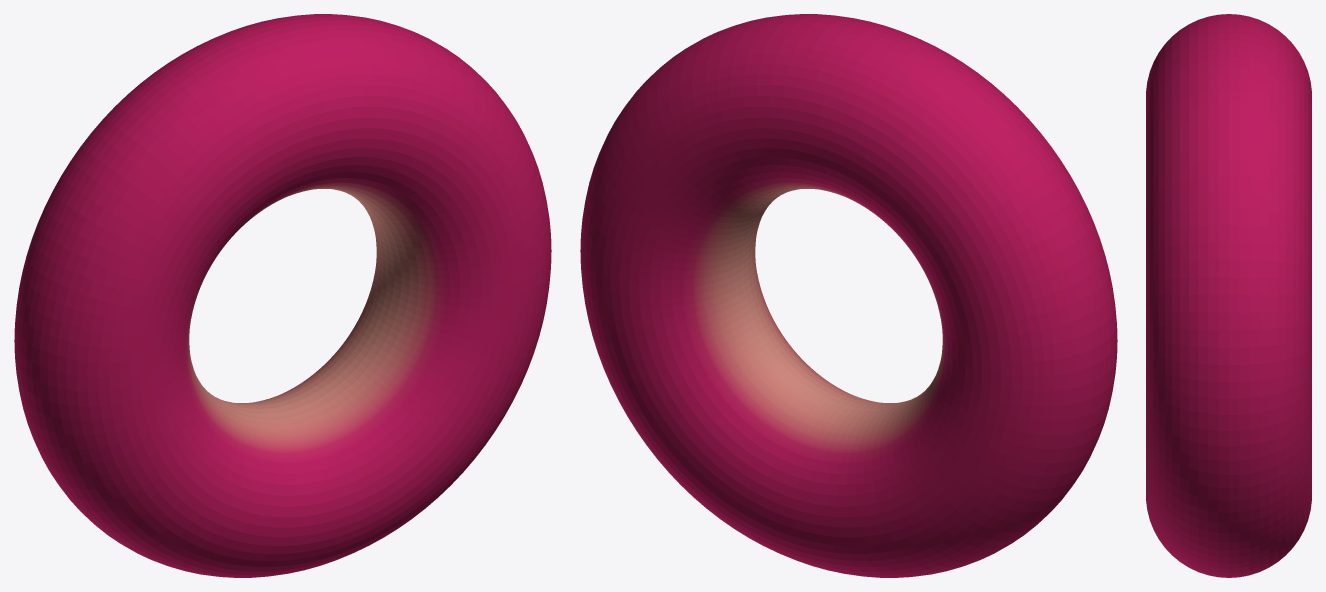
The picture shows the model from 3 angles, left to right: view 1: azimuth 30°, elevation 25°; view 2: azimuth 150°, elevation 25°; view 3: azimuth 270°, elevation 25°; orthographic projection. The views are drawn at different scales.
Parts seen in each view (by area): view 1: world; view 2: world; view 3: world.
Part boxes in pixels (x1=…): world: x1=14, y1=14, x2=551, y2=577; world: x1=580, y1=14, x2=1117, y2=577; world: x1=1146, y1=14, x2=1311, y2=577.
Size of the model in its own units: 31.2 by 31.2 by 9.18.
